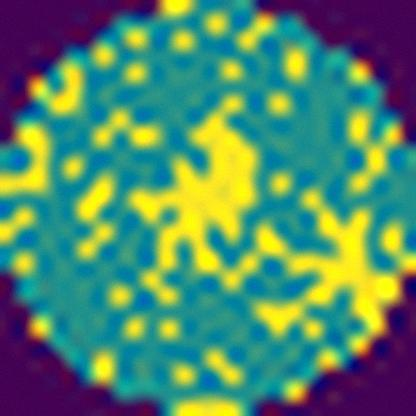Center: (140, 121, 262, 271)
